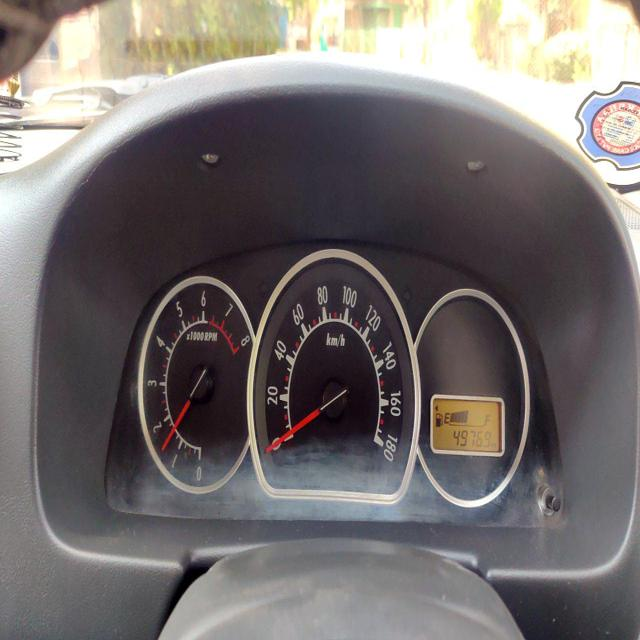odometer: (451, 426, 493, 449)
